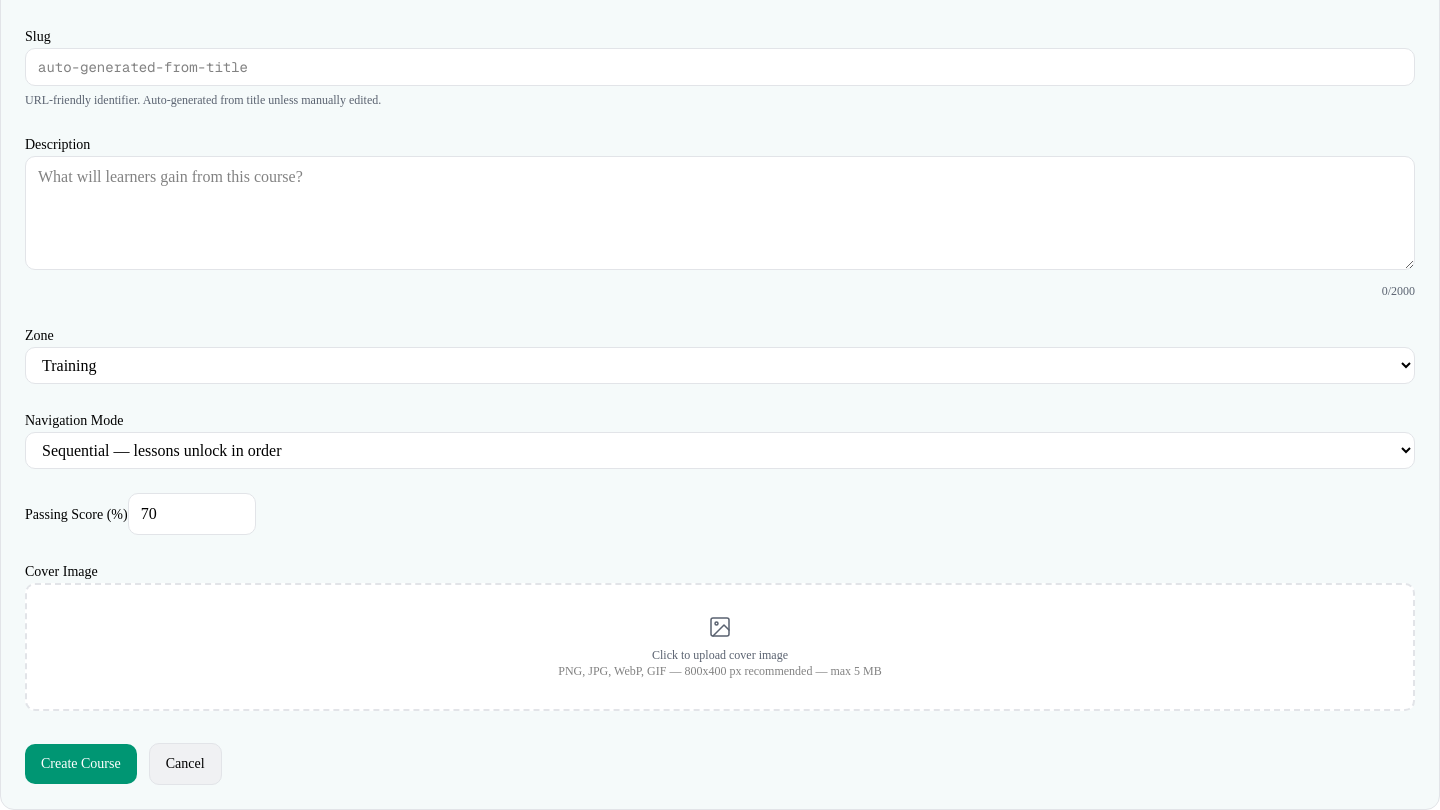
it: CourseForm › Create mode (no course prop) › shows validation errors for empty required fields
(page scrolled)
Click the button "Create Course": (81, 764) 25,744 -> 137,784
(page scrolled)
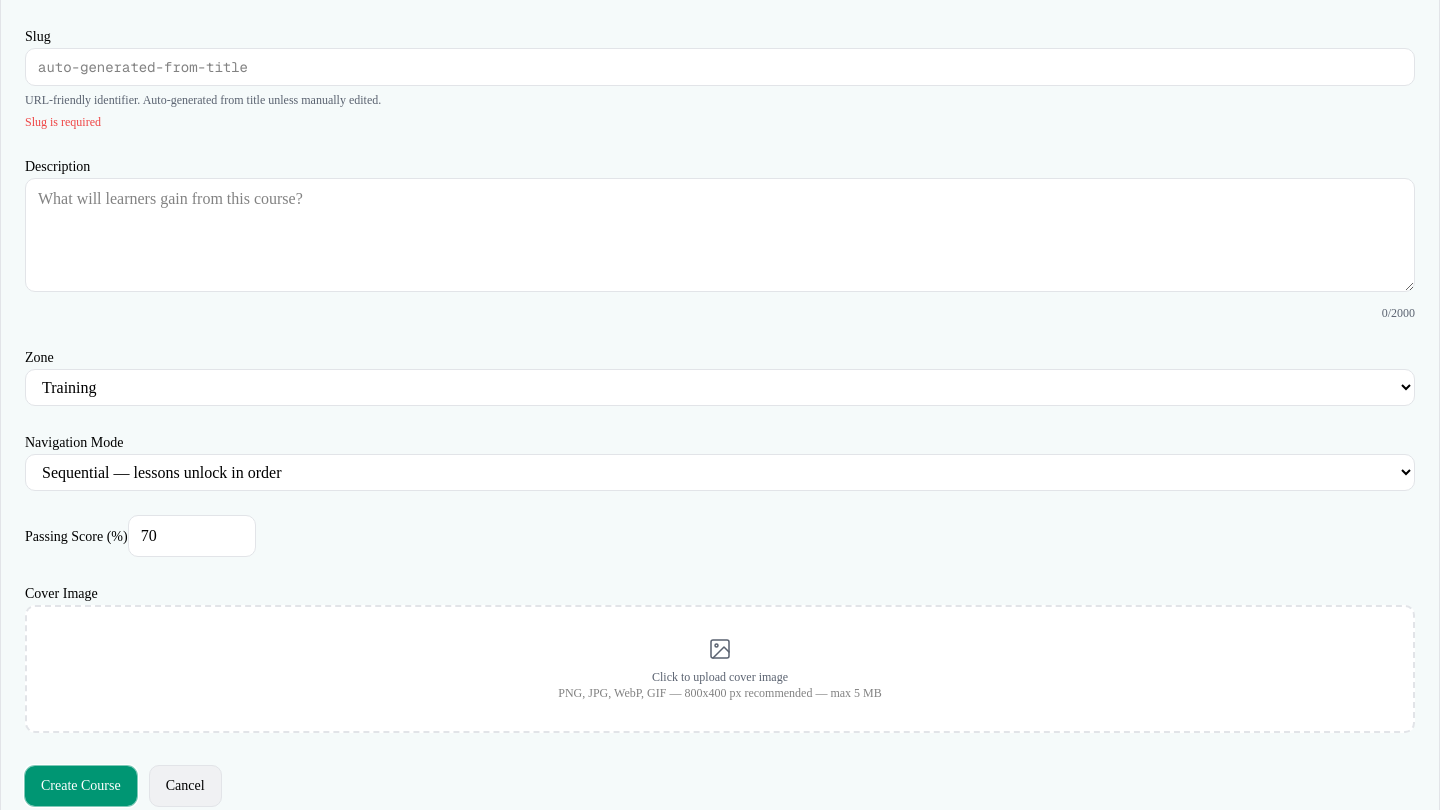
Result: the text "Slug is required" is shown at 25,115 -> 101,129
